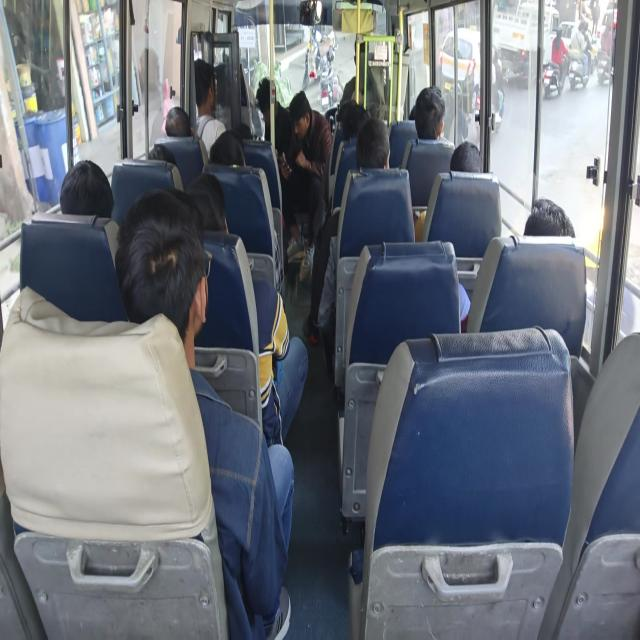person: (114, 188, 295, 638), (185, 172, 308, 445), (304, 117, 390, 342), (458, 197, 576, 331), (255, 77, 306, 261), (288, 90, 332, 280), (414, 140, 483, 241), (289, 90, 332, 180), (59, 158, 114, 218), (194, 58, 226, 157), (523, 198, 575, 238), (414, 85, 447, 141), (356, 117, 390, 169), (568, 19, 590, 82), (209, 130, 245, 166), (551, 26, 569, 86), (450, 140, 483, 172), (165, 106, 191, 136)
